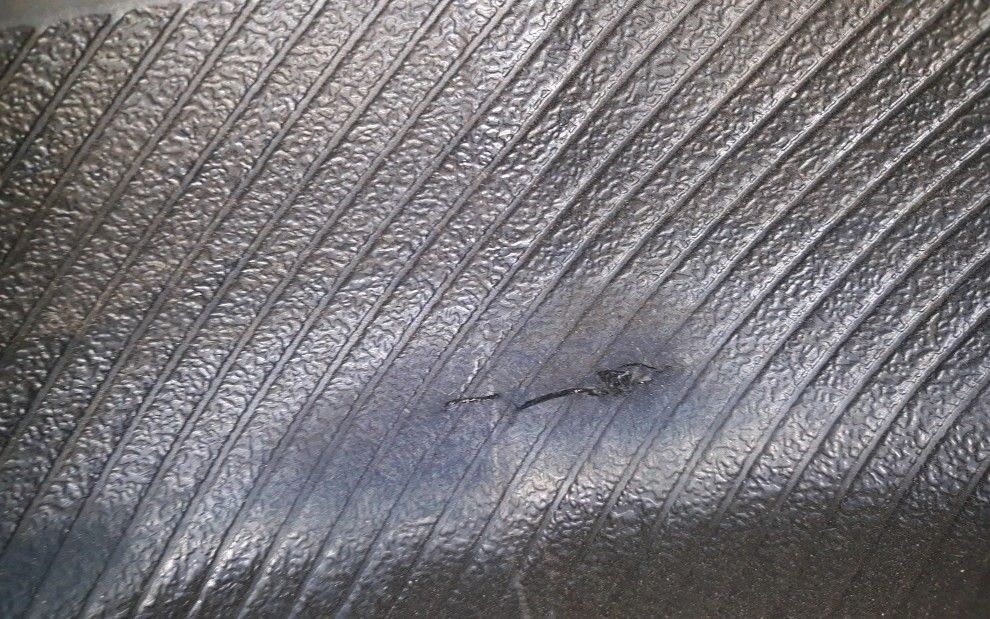CBU: (409, 339, 708, 453)
